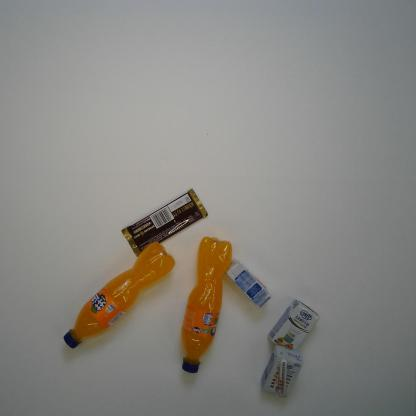Chocolate: (119, 187, 209, 259)
Drink: (62, 240, 175, 350), (180, 235, 233, 374)
Milk: (266, 298, 320, 354), (225, 257, 272, 310), (260, 345, 304, 399)
